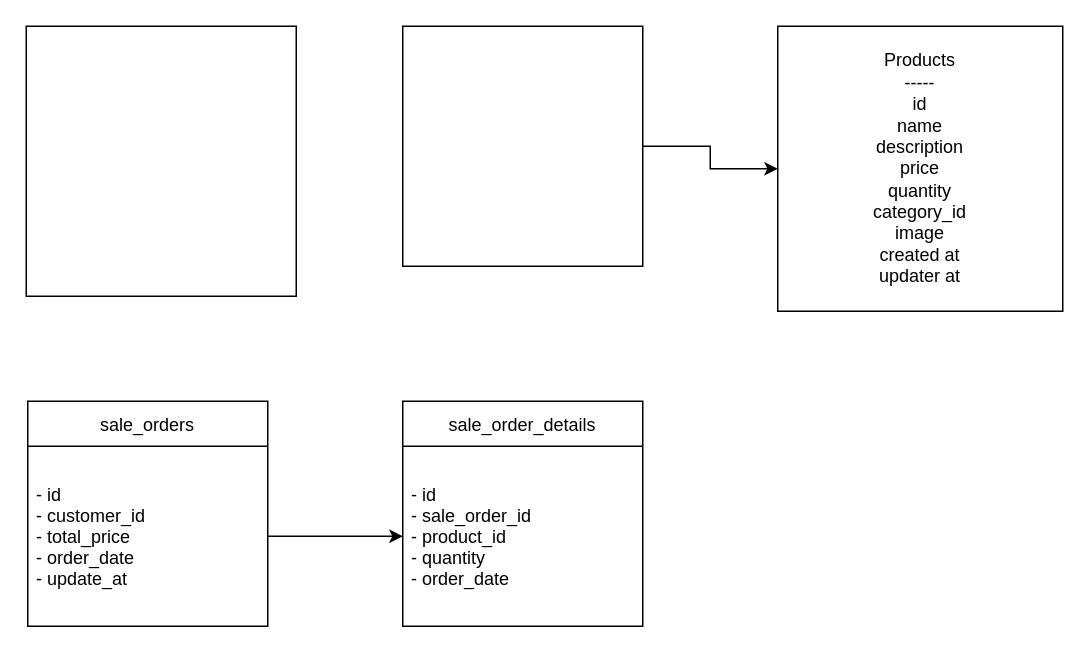
This 1089x653 diagram has some shape labels left out. Here are the shapes that lost their labels. From the top down, the centre of each, then its label:
At [160,160]: "Users ----- id name email phone(100) password address role created at updated at".
At [522,145]: "Categories ----- id name description created at updated at".
